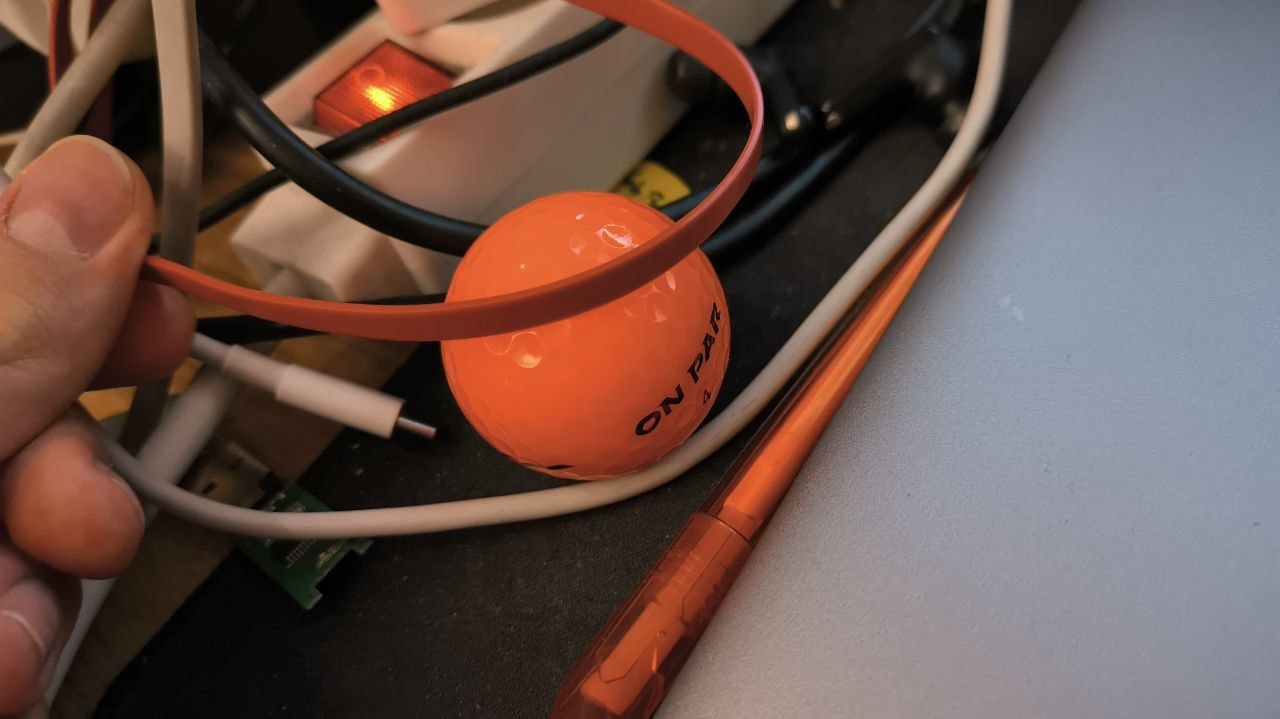orange_ball: (441, 190, 731, 480)
